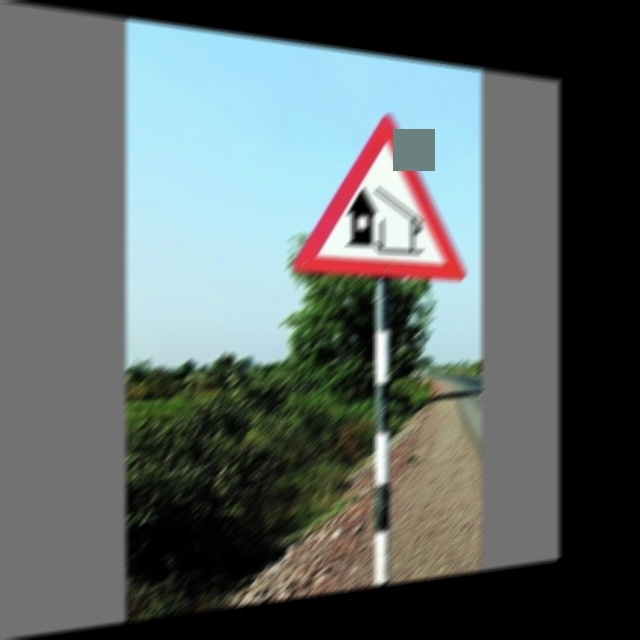Barrier_Ahead: (293, 103, 464, 290)
